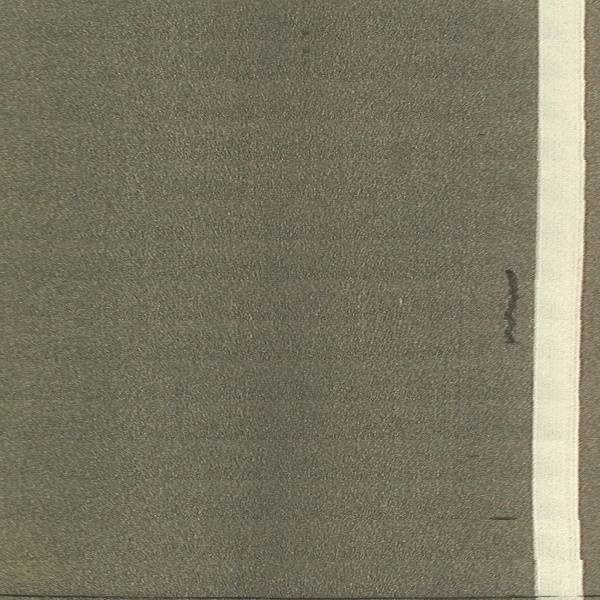road_damage: (498, 264, 524, 348)
